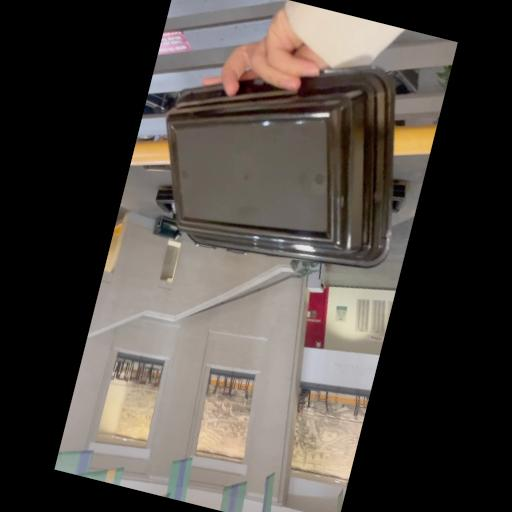rigid_plastic_container: (118, 18, 432, 288)
